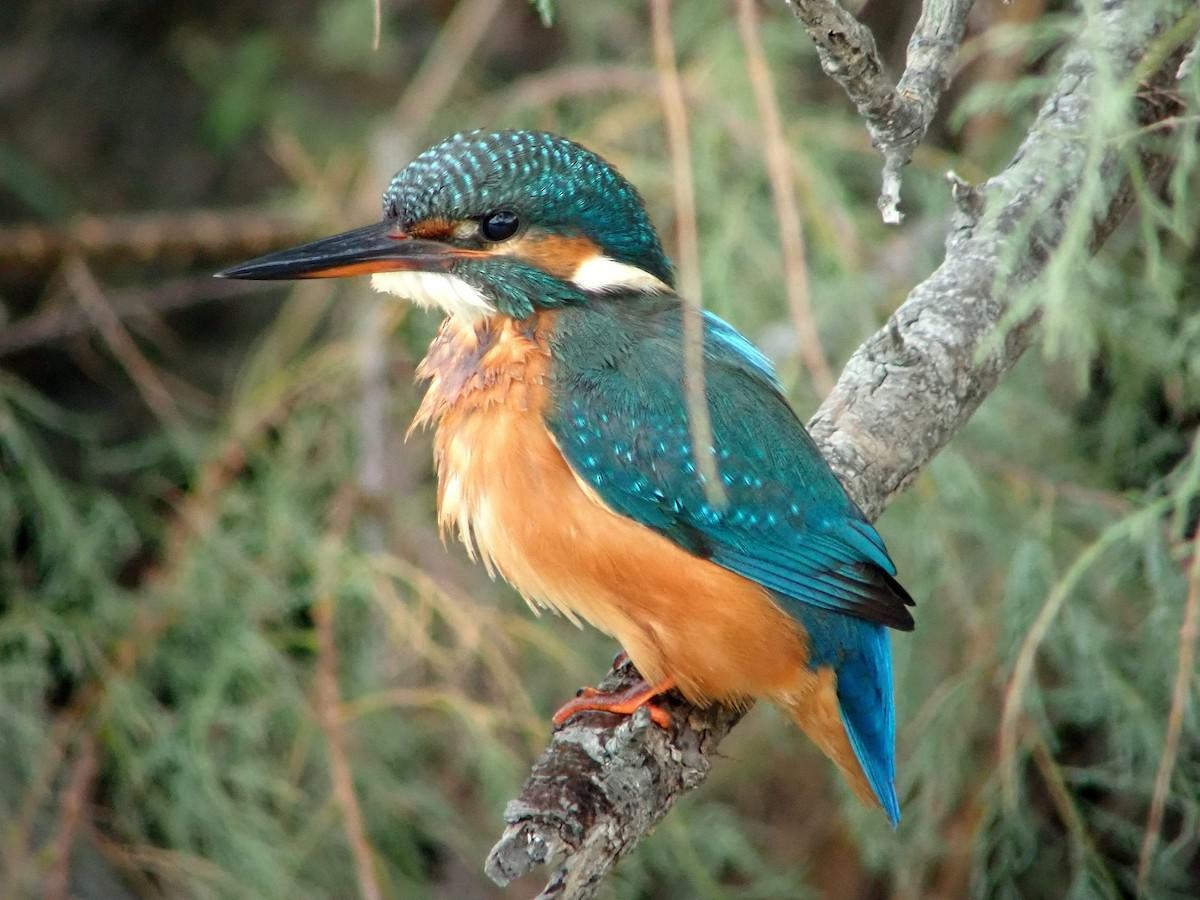kingfisher: (240, 130, 988, 823)
